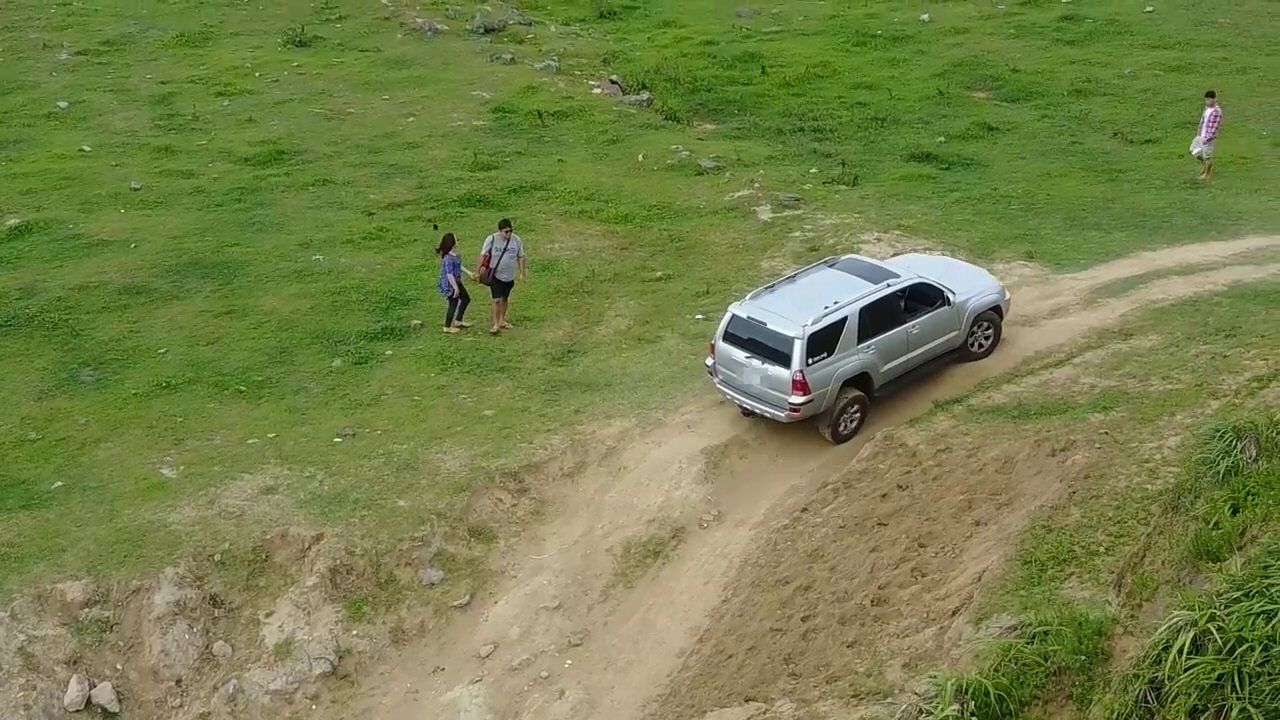araba: (706, 250, 1013, 444)
insan: (484, 212, 528, 333), (1190, 85, 1228, 183), (439, 224, 471, 333)
